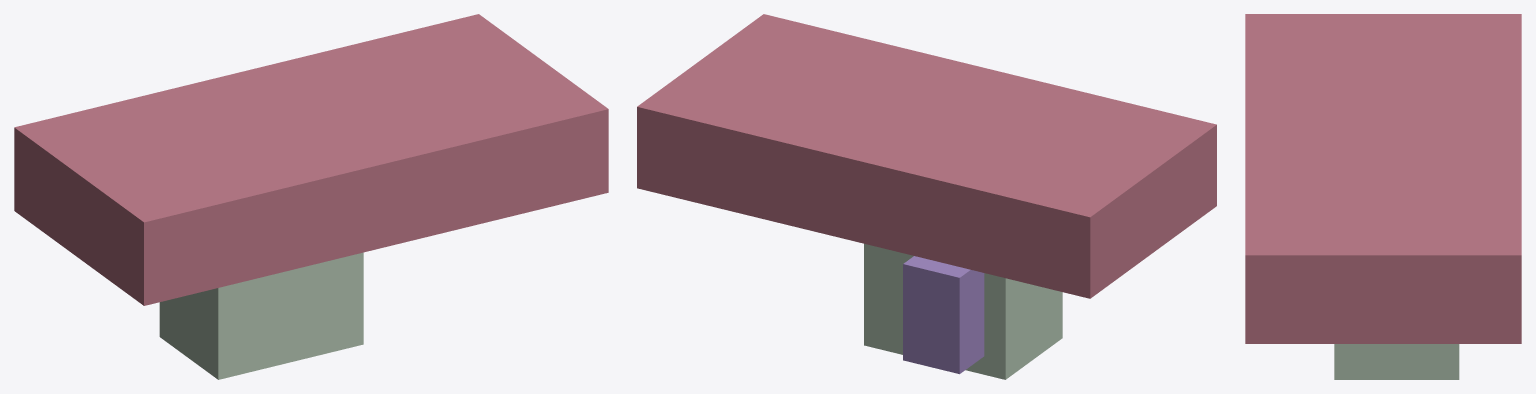
The picture shows the model from 3 angles, left to right: view 1: azimuth 30°, elevation 25°; view 2: azimuth 150°, elevation 25°; view 3: azimuth 270°, elevation 25°; orthographic projection. The views are drawn at different scales.
Visible parts, largest first — view 1: world; view 2: world; view 3: world.
Part boxes in pixels (x1,y1,x2,y2): world: (14,14,608,379); world: (637,14,1216,379); world: (1245,14,1521,379).
Bounding box in the file's own units: 6.4 × 2.85 × 3.1.
